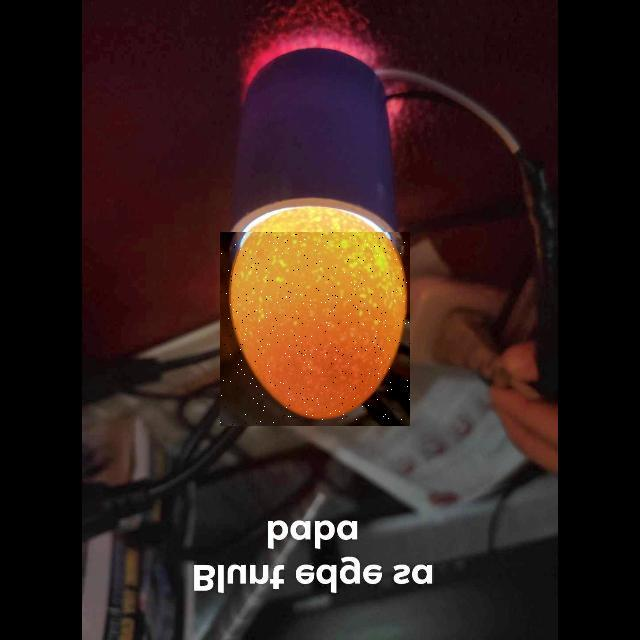Infertile: (220, 232, 410, 426)
